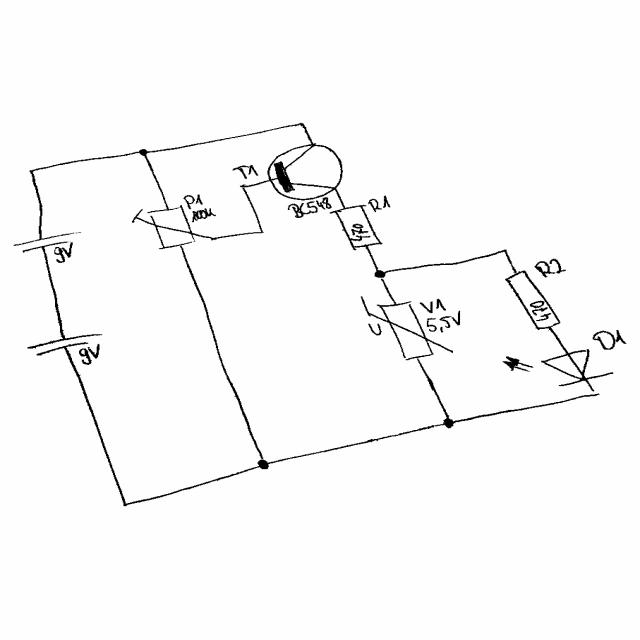diode: (493, 347, 619, 393)
junction: (373, 267, 390, 281), (441, 416, 459, 429), (255, 457, 272, 470), (589, 388, 603, 398), (138, 148, 149, 157), (120, 500, 131, 509), (27, 167, 36, 175), (238, 184, 248, 191), (258, 228, 267, 235), (298, 121, 308, 127), (502, 248, 510, 254)
resistor: (499, 267, 571, 336), (127, 200, 201, 254), (327, 202, 389, 252)
source: (7, 227, 88, 257), (25, 333, 104, 360)
text: (588, 326, 630, 353), (287, 196, 334, 219), (421, 309, 465, 333), (530, 255, 569, 280), (525, 298, 556, 323), (416, 297, 452, 315), (189, 204, 219, 225), (77, 342, 103, 366), (51, 240, 78, 263), (347, 222, 375, 242), (181, 191, 206, 212), (363, 195, 392, 213), (231, 163, 260, 179), (366, 322, 384, 336)
transistor: (267, 143, 344, 201)
